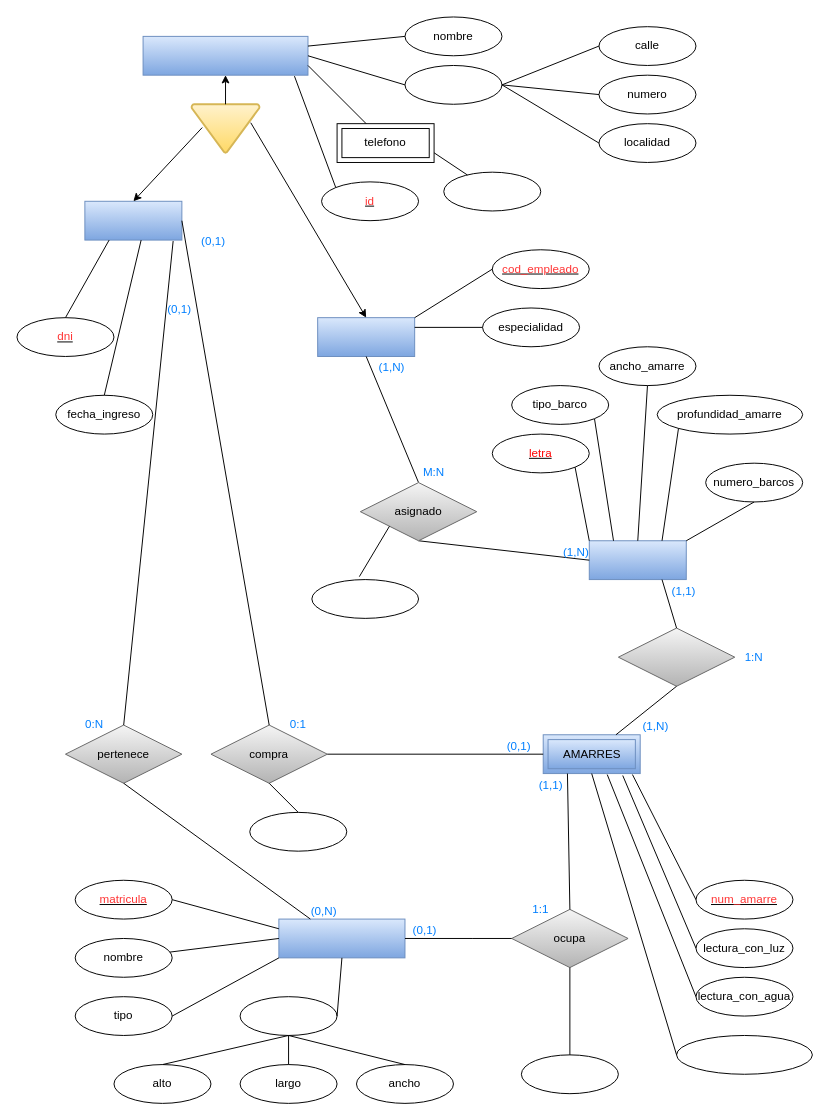
The diagram is 829 pixels wide and 1120 high, and some of its shapes have lost their labels. The centre of each missing label's shape, as x and y in pixels:
barcos_asignados: point 365,598
dimensiones: point 288,1015
direccion: point 453,84
EMBARCACIONES: point 341,938
EMPLEADOS: point 366,336
fecha_asignacion: point 569,1074
fecha_compra: point 298,831
num_telefono: point 492,191
PERSONA: point 225,55
Servicio_mantenimiento: point 744,1054
SOCIOS: point 133,220
tiene: point 676,656
ZONAS: point 637,560
